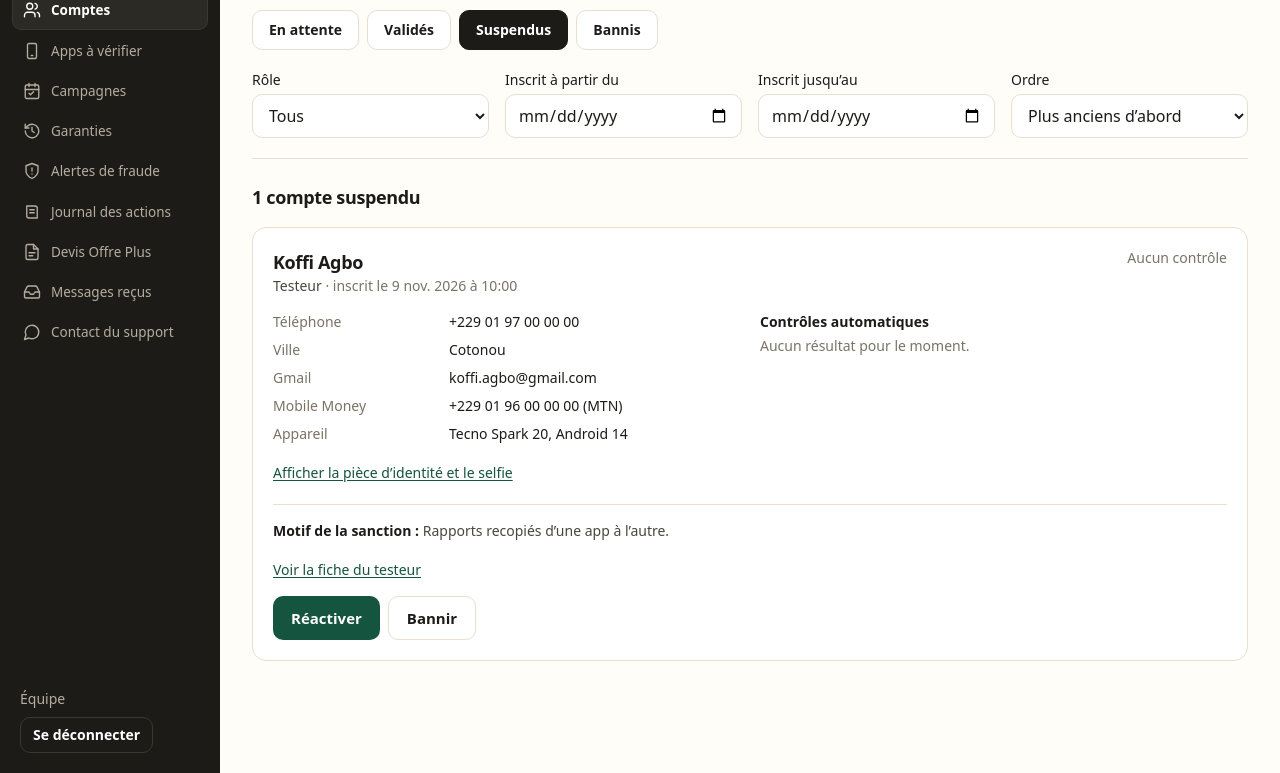
Test: Back-office : sanctions (US-29) › réactive un compte suspendu sans motif et montre le motif de la sanction
Expected: the text "Rapports recopiés d’une app à l’autre." is shown, [423,521,669,540]
What coordinates should you click on to do the following:
click the button with aria-label "Réactiver le compte de Koffi Agbo"
I would click on:
 (326, 618)
Its box is [273,596,380,640].
(page scrolled)
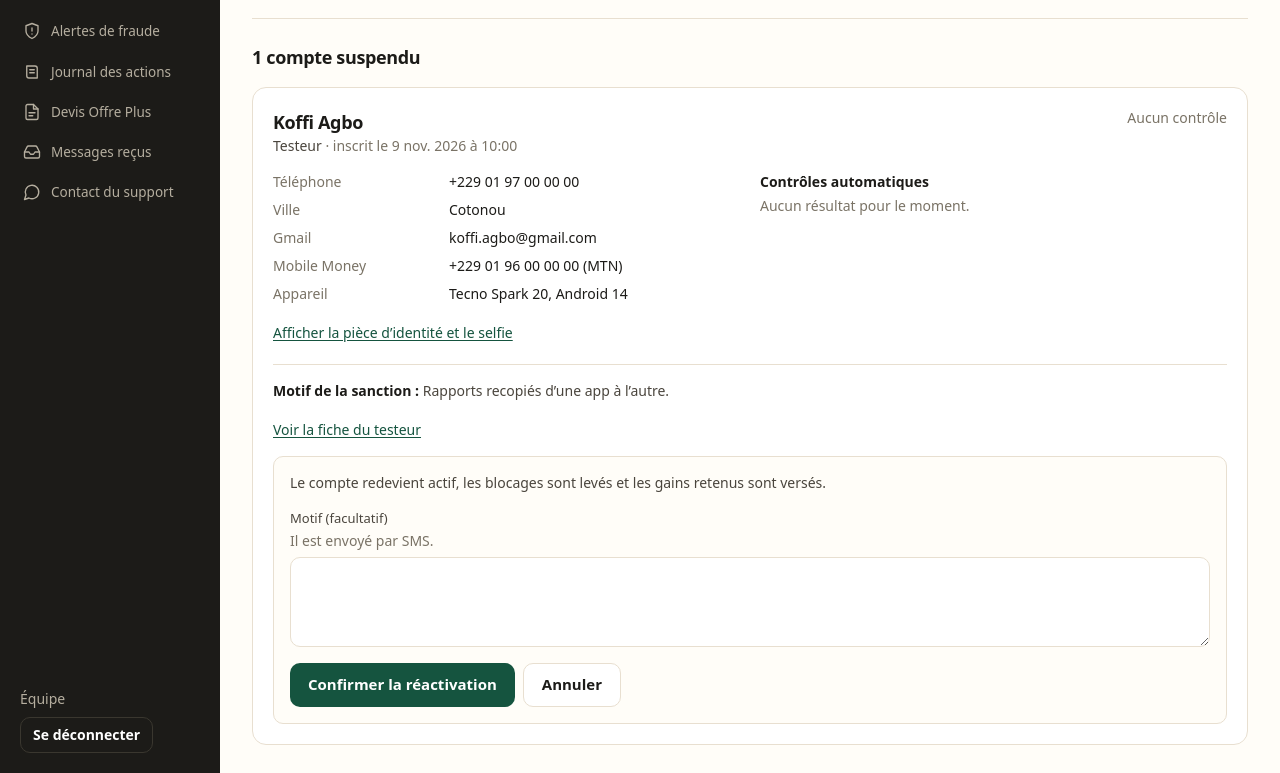
What coordinates should you click on to do the following:
click the button "Confirmer la réactivation"
I would click on:
 (402, 685)
Its box is [290,663,515,707].
(page scrolled)
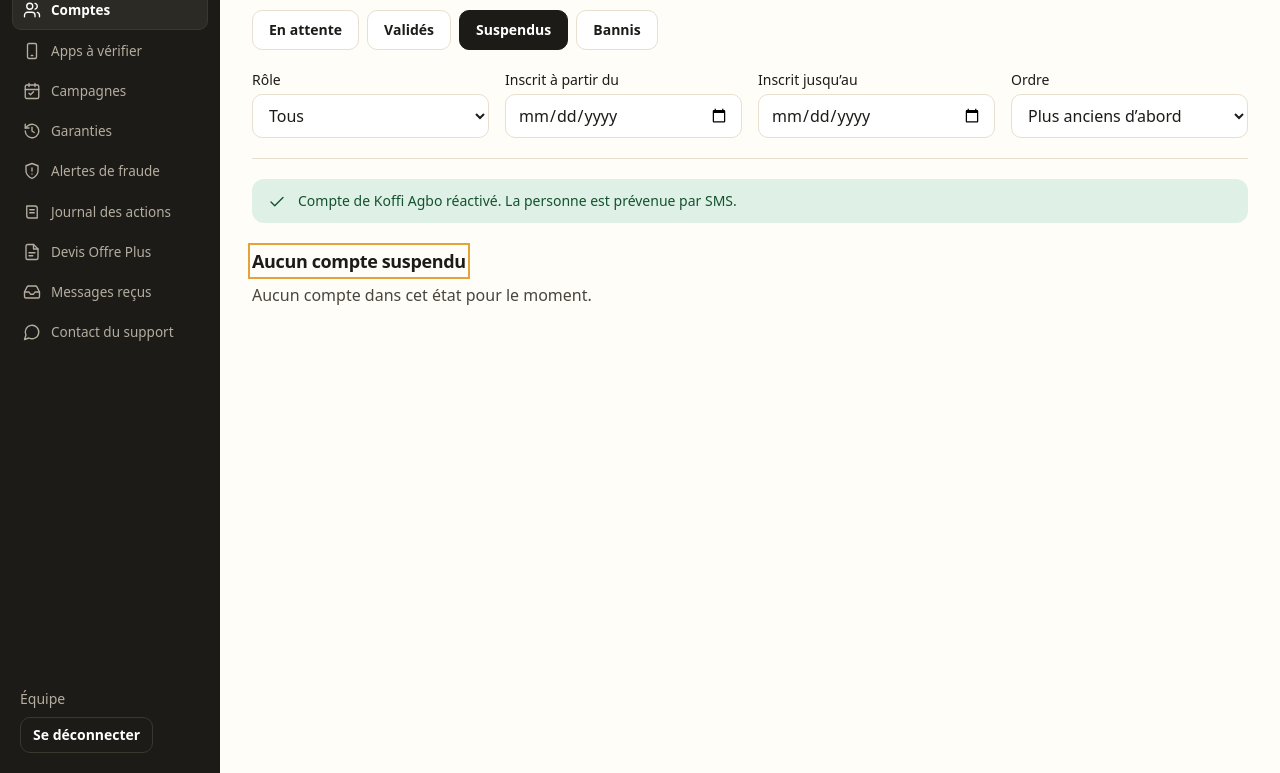
Expected: the text "Compte de Koffi Agbo réactivé" is shown, [298,191,737,210]
